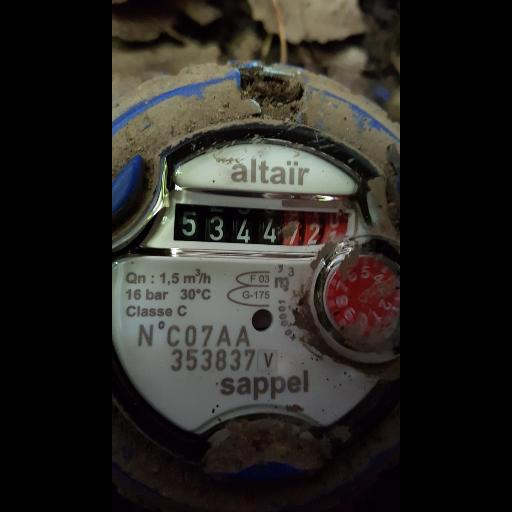0: (326, 212, 343, 245)
2: (306, 210, 324, 247)
3: (207, 206, 227, 243)
4: (233, 207, 253, 244), (261, 209, 279, 246)
5: (178, 203, 200, 241)
7: (284, 210, 302, 247)
border_water_meter_number: (174, 203, 349, 250)
